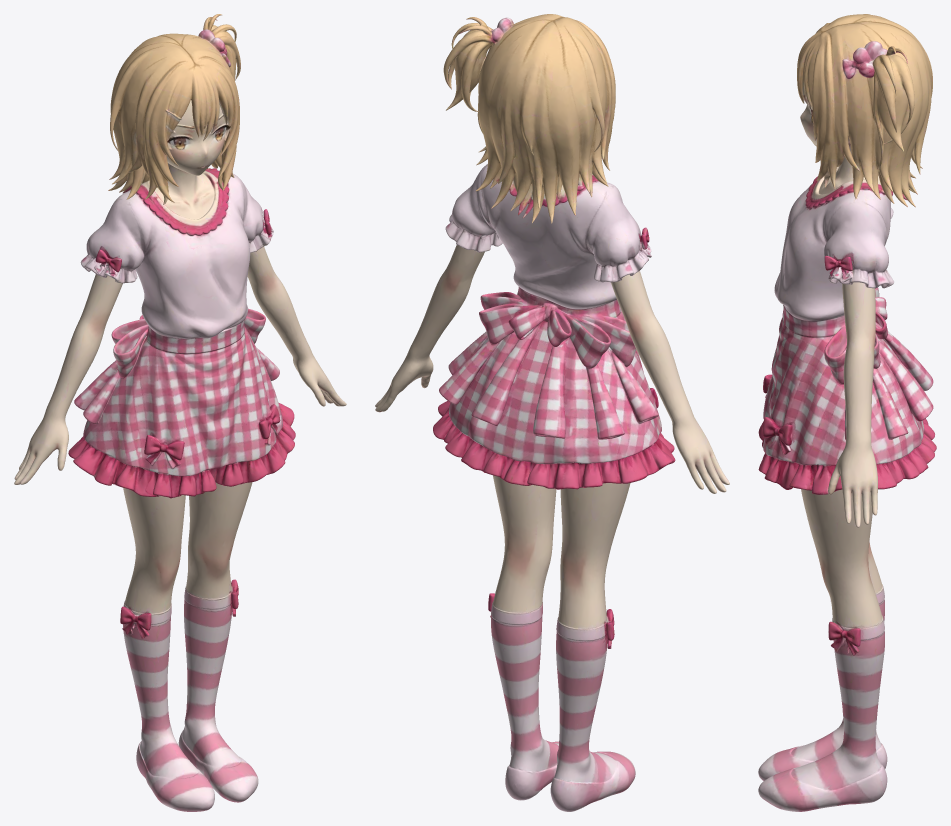
File: harumodel.glb
3 views of the same model, side by side, from view 1: azimuth 30°, elevation 25°; view 2: azimuth 150°, elevation 25°; view 3: azimuth 270°, elevation 25° (orthographic). The views are drawn at different scales.
Bounding box in the file's own units: 0.8864 × 1.9 × 0.3962.
1 material, 1 textured.
